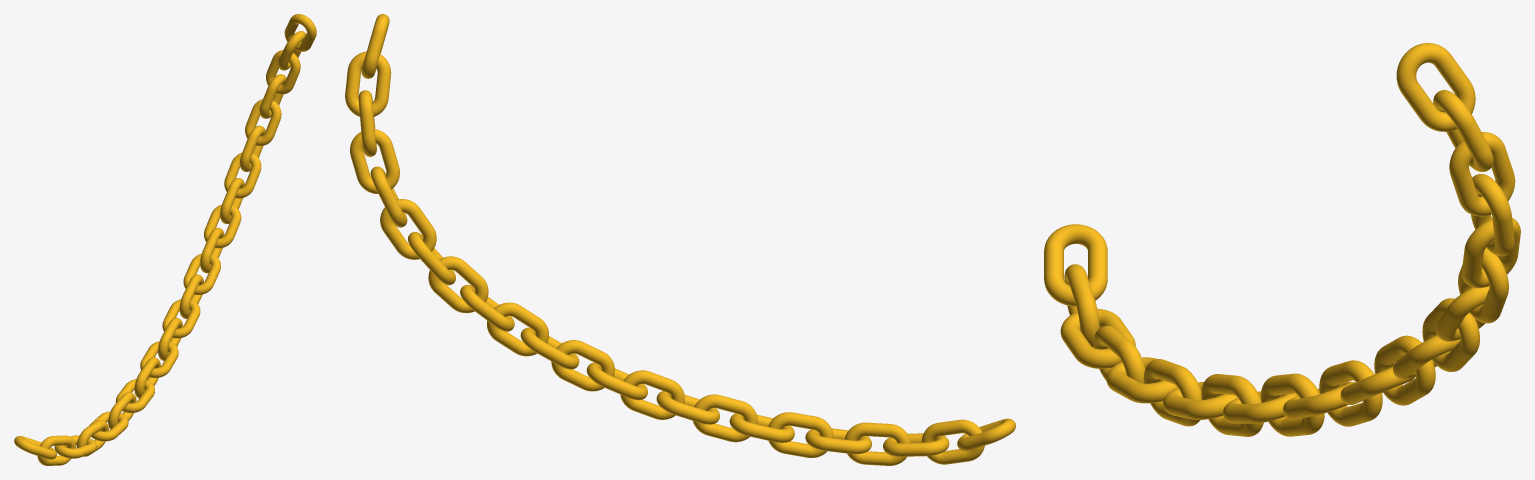
The model's file is Gold Chain.fbx.
3 renders of one model, left to right at view 1: azimuth 30°, elevation 25°; view 2: azimuth 150°, elevation 25°; view 3: azimuth 270°, elevation 25°, orthographic. The views are drawn at different scales.
Visible parts, largest first — view 1: Object_4; view 2: Object_4; view 3: Object_4.
Part boxes in pixels (x1,y1,x2,y2): Object_4: (14,14,316,465); Object_4: (345,14,1015,465); Object_4: (1044,43,1520,436).
Bounding box in the file's own units: 2032 × 1571 × 1085.
